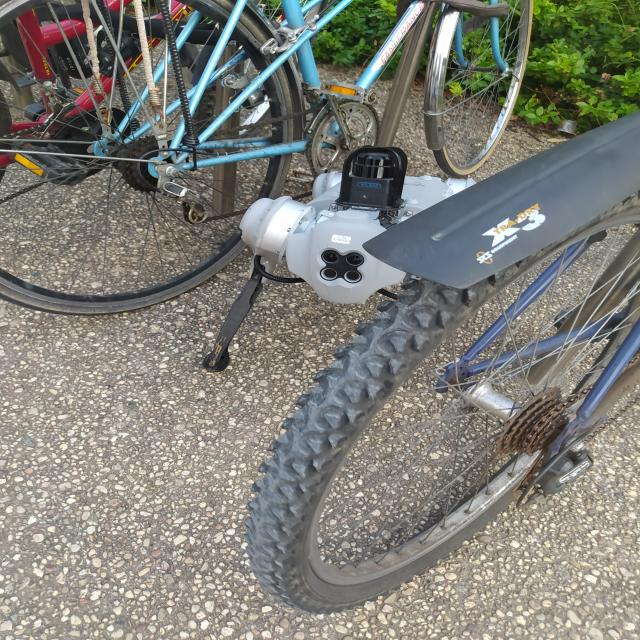unitree-go1-robot: (180, 126, 497, 393)
